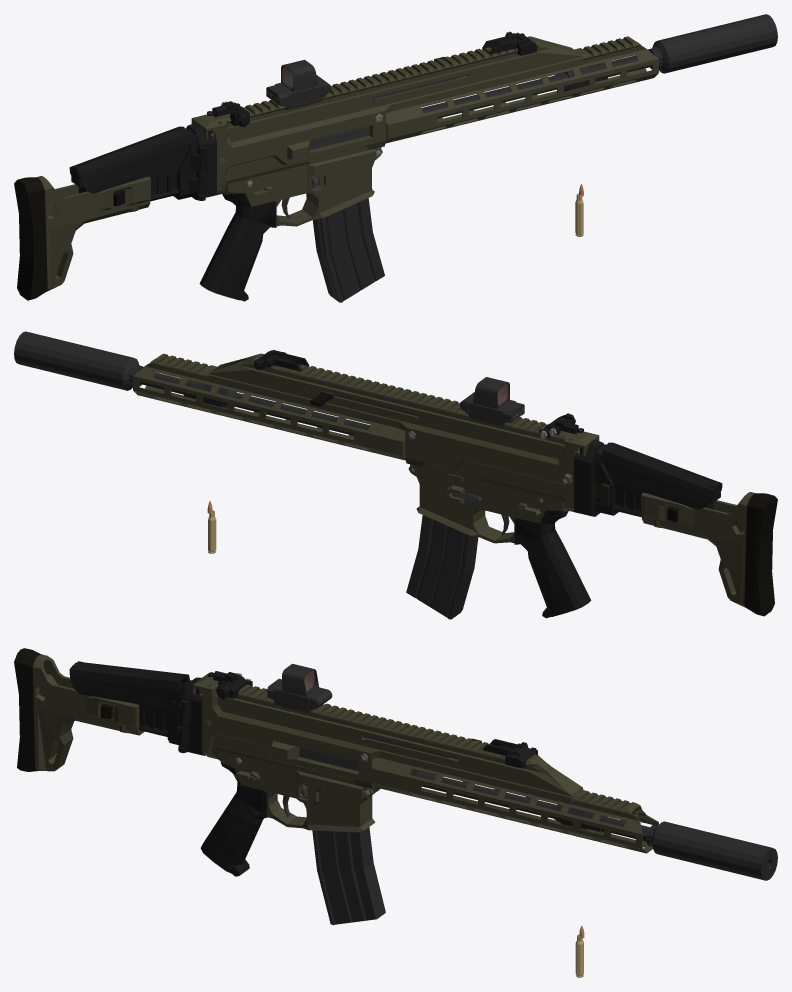
The picture shows the model from 3 angles, top to bottom: view 1: azimuth 30°, elevation 25°; view 2: azimuth 150°, elevation 25°; view 3: azimuth 330°, elevation 25°; orthographic projection.
Visible parts, largest first — view 1: lower_receiver, magazine, supresoor, Holosight; view 2: lower_receiver, magazine, supresoor, Holosight; view 3: lower_receiver, magazine, supresoor, Holosight.
Boxes of the visible parts, box(x1,y1,x2,y2) form: lower_receiver: box(14, 31, 658, 301); magazine: box(312, 198, 384, 302); supresoor: box(648, 14, 777, 73); Holosight: box(266, 60, 331, 109); lower_receiver: box(133, 350, 777, 618); magazine: box(406, 515, 478, 619); supresoor: box(14, 331, 143, 390); Holosight: box(459, 377, 524, 426); lower_receiver: box(14, 648, 658, 938); magazine: box(312, 827, 385, 925); supresoor: box(646, 821, 777, 880); Holosight: box(267, 663, 332, 713).
Size of the model in its own units: 8.08 by 2.51 by 0.5868.
Materials: 31 (1 with a texture image).
